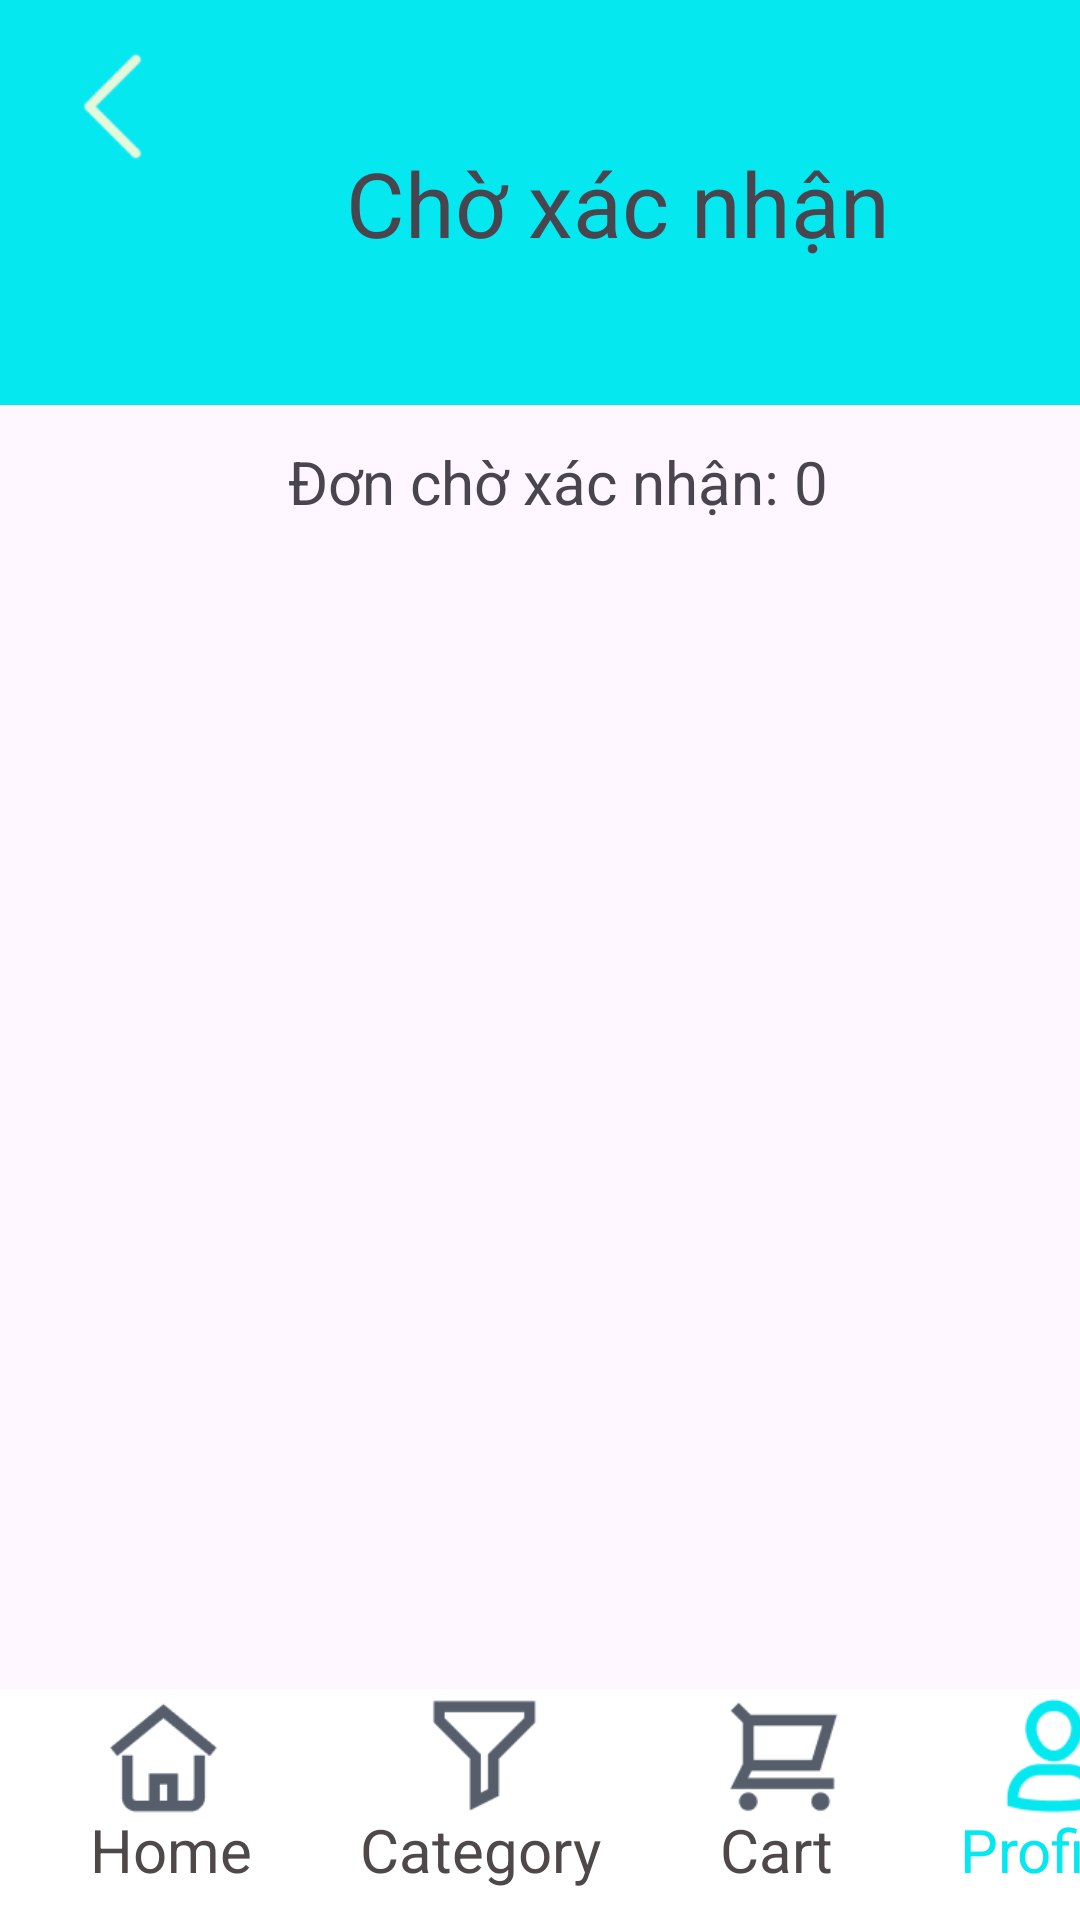

Where icons sit on this 1080x1920 app screen, as (x1, y1, x2, y2):
back: (83, 54, 142, 159)
